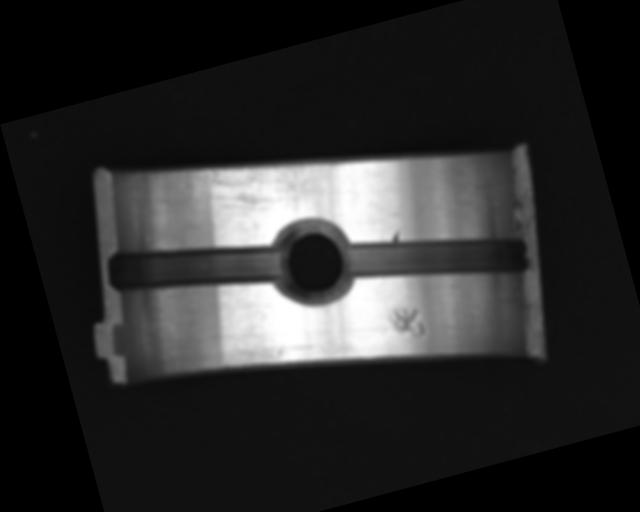bruise: (386, 302, 429, 345), (388, 227, 403, 244)
gap: (343, 201, 534, 312), (103, 213, 286, 323)
hole: (263, 212, 361, 312)
scratch: (175, 129, 346, 242)
